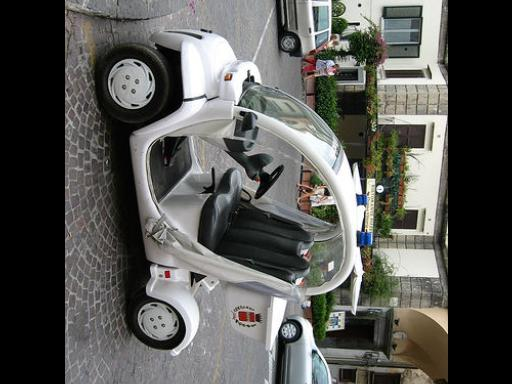Cheetah: (88, 28, 376, 364)
